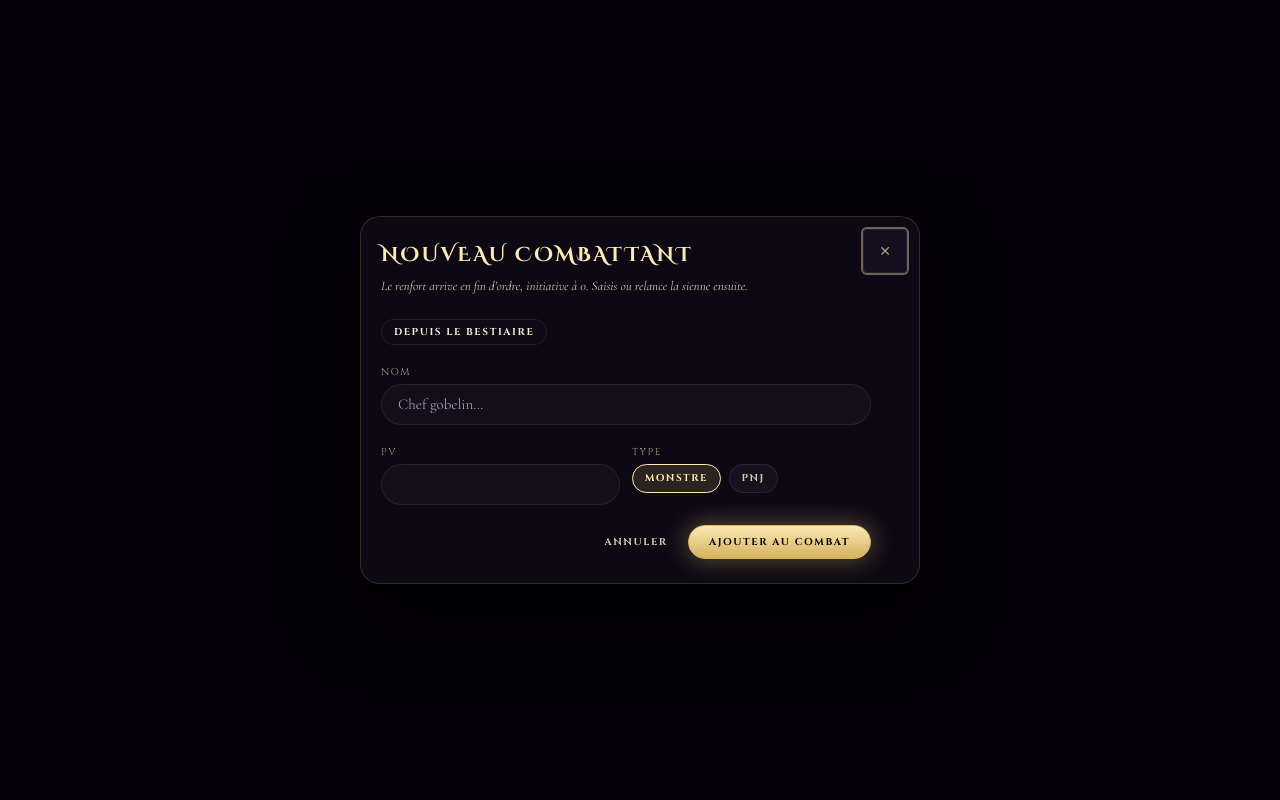
Test: <ParticipantAddModal> › refuse un combattant sans nom, avec un message explicite
Type "10" into the number field labelled "PV" at (500, 484), box [381,464,620,505]
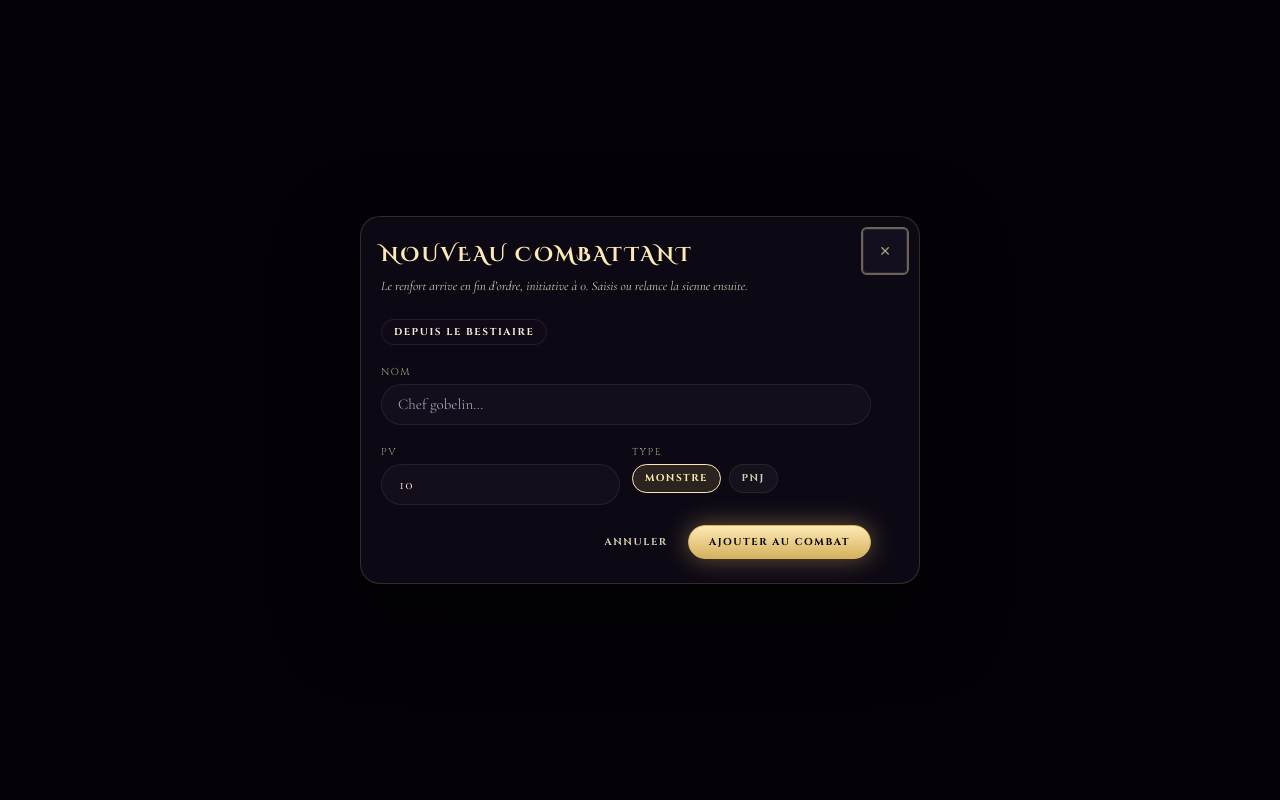
Click the button "Ajouter au combat" at (779, 542), box [688,525,871,559]
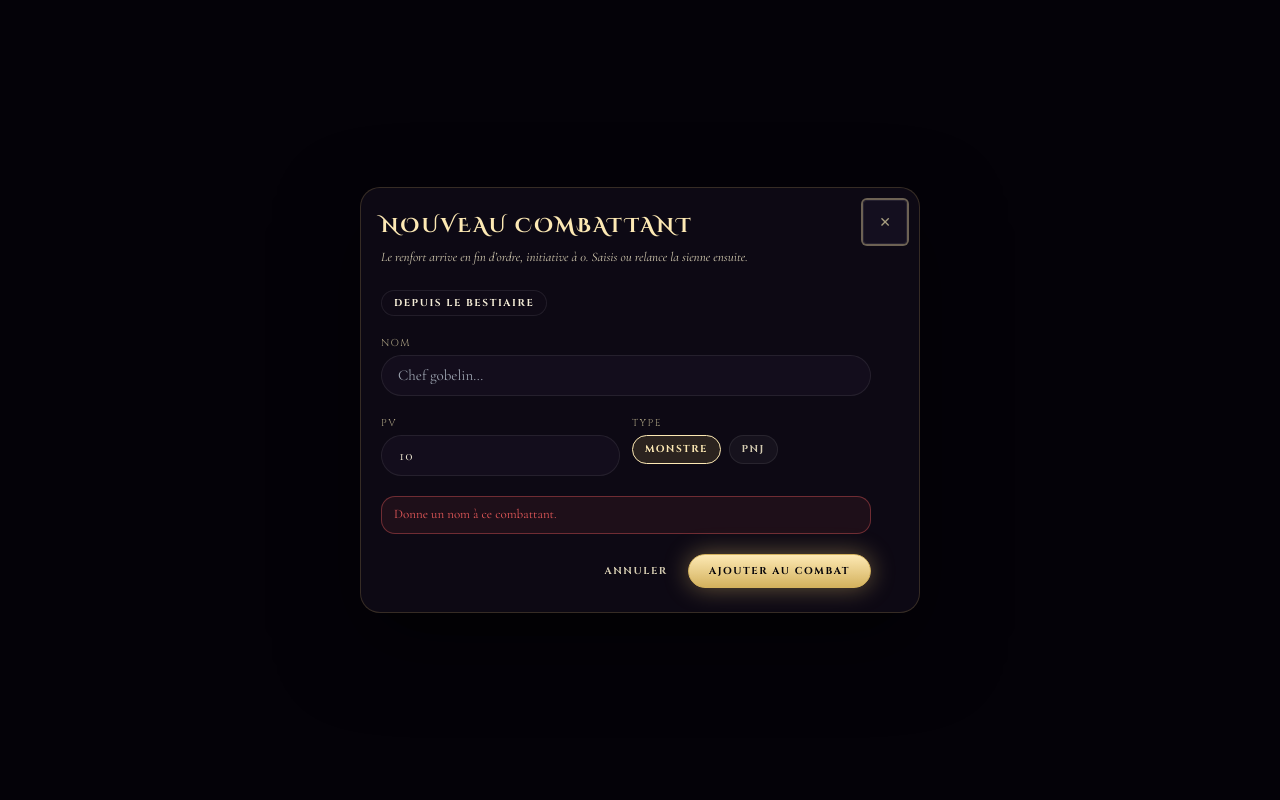
Now the message reads "Donne un nom à ce combattant.", box [394,506,557,522]
